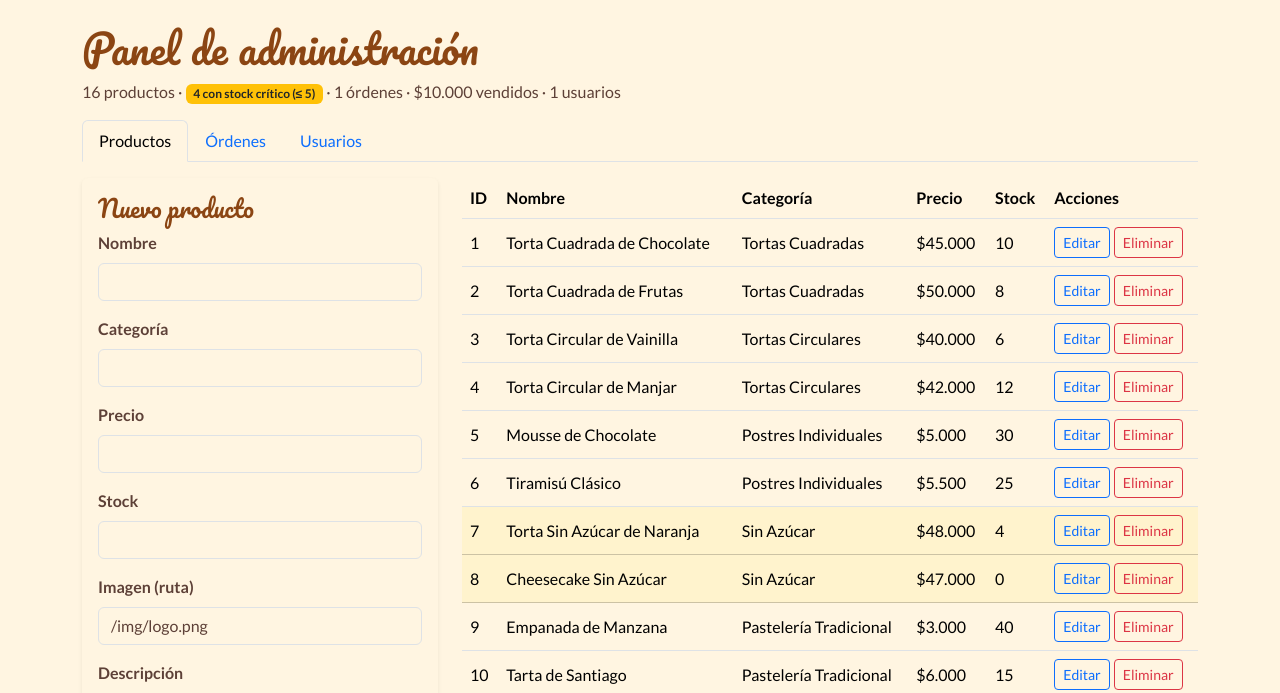
Test: <Admin /> pestañas de órdenes y usuarios › Órdenes: lista las compras y muestra la boleta
Check: the text "1 órdenes · $10.000 vendidos" is shown, box [82,82,621,104]
Click the tab "Órdenes": (236, 141) [188,120,283,162]
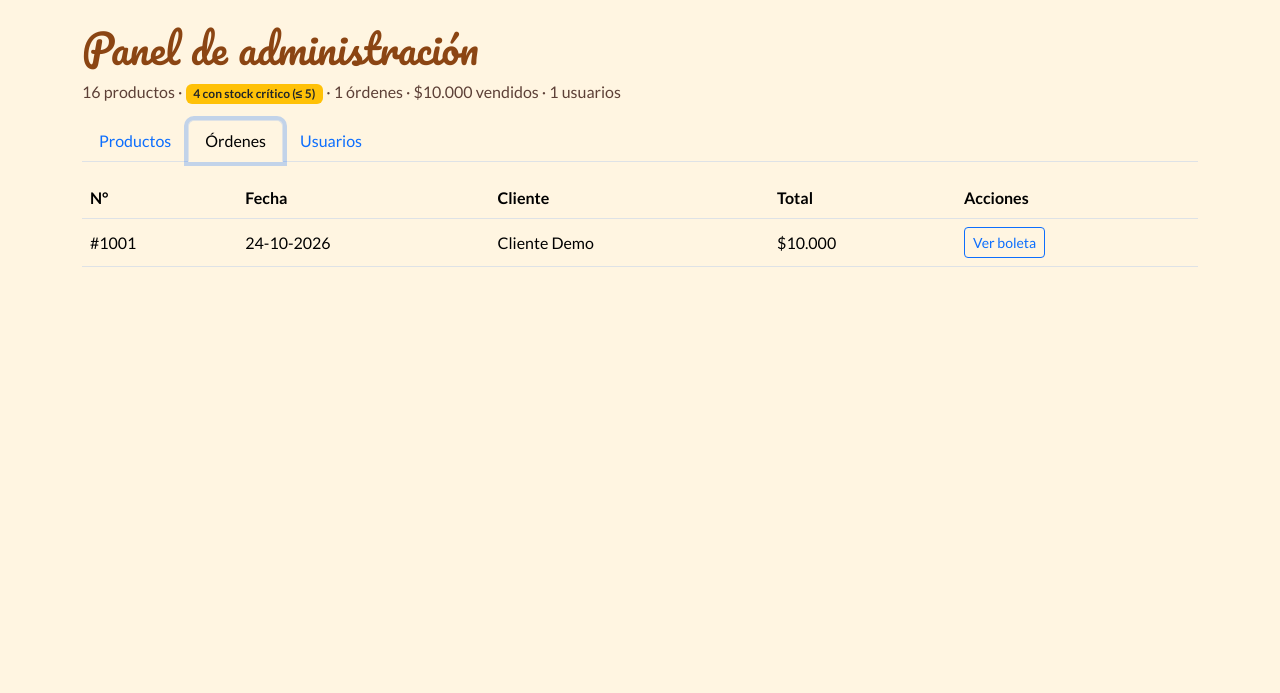
Click the button "Ver boleta": (1005, 243) [964,227,1045,258]
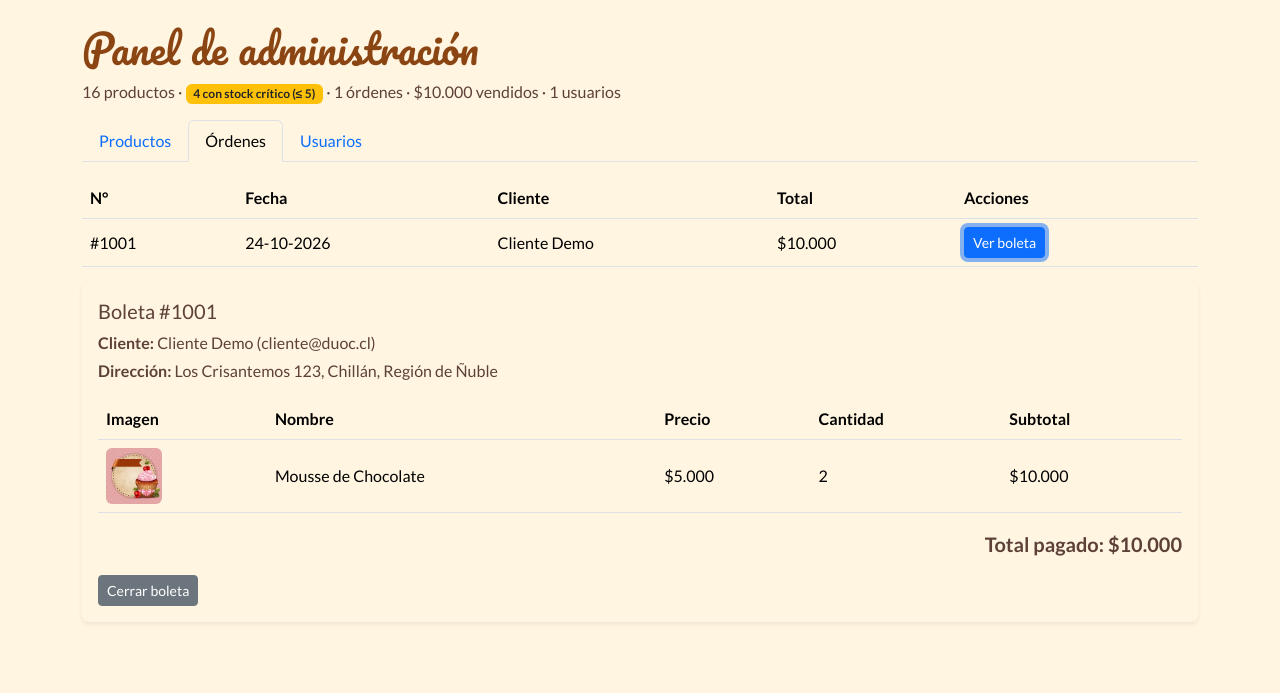
Check: the heading "Boleta #1001" is shown, box [98,299,217,323]
Check: the text "Total pagado: $10.000" is shown, box [985,532,1182,556]
